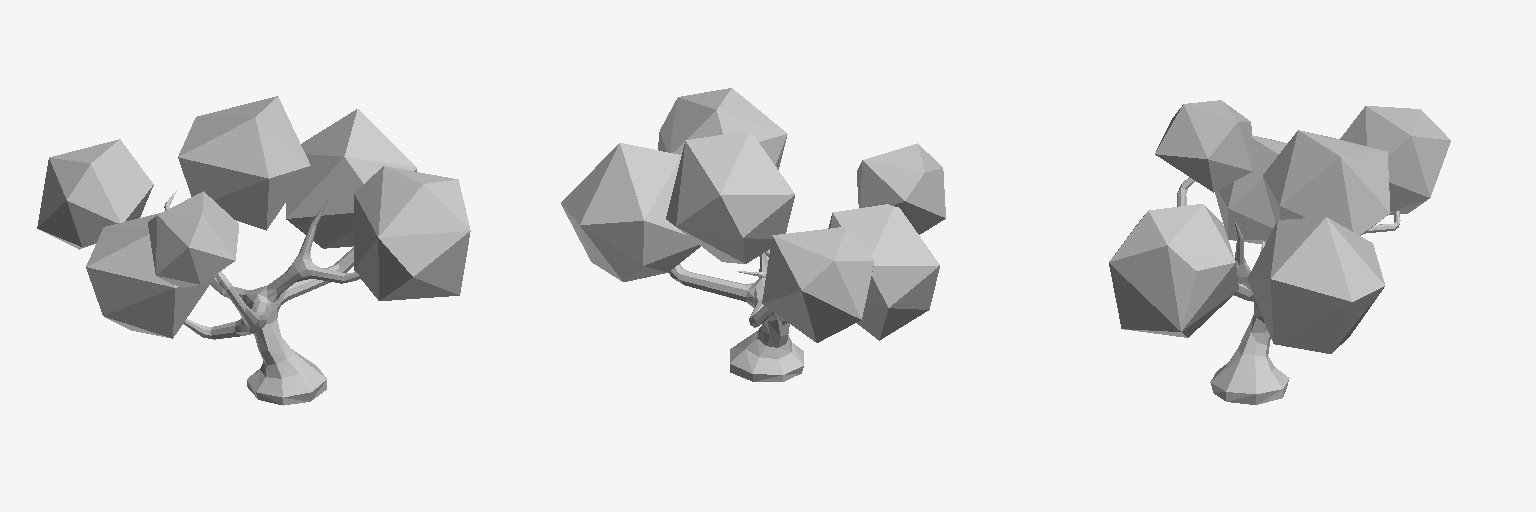
File: Oak_Tree_Spring.obj
The picture shows the model from 3 angles: view 1: azimuth 30°, elevation 25°; view 2: azimuth 150°, elevation 25°; view 3: azimuth 270°, elevation 25°; orthographic projection.
Parts seen in each view (by area): view 1: Oak_Tree_Spring_Plane.020; view 2: Oak_Tree_Spring_Plane.020; view 3: Oak_Tree_Spring_Plane.020.
Part boxes in pixels (left/top/right/bottom): Oak_Tree_Spring_Plane.020: left=37, top=96, right=470, bottom=405; Oak_Tree_Spring_Plane.020: left=561, top=88, right=945, bottom=381; Oak_Tree_Spring_Plane.020: left=1109, top=100, right=1450, bottom=404.
Bounding box in the file's own units: 8.27 × 6 × 7.17.